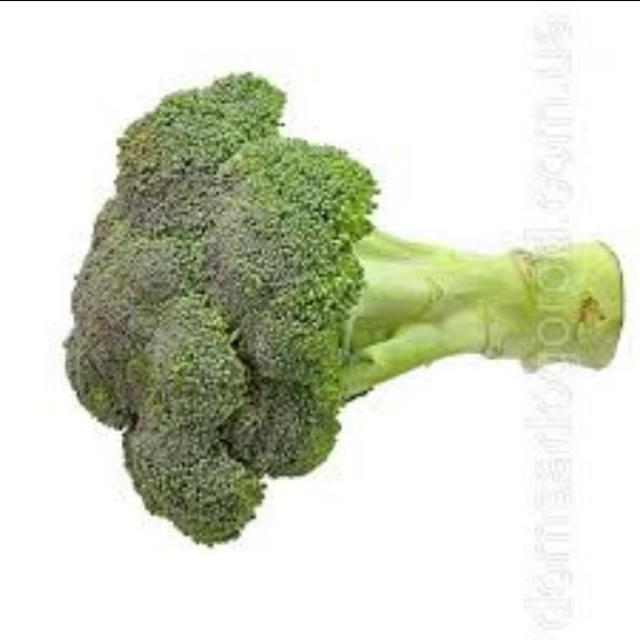Broccoli: (62, 66, 633, 553)
